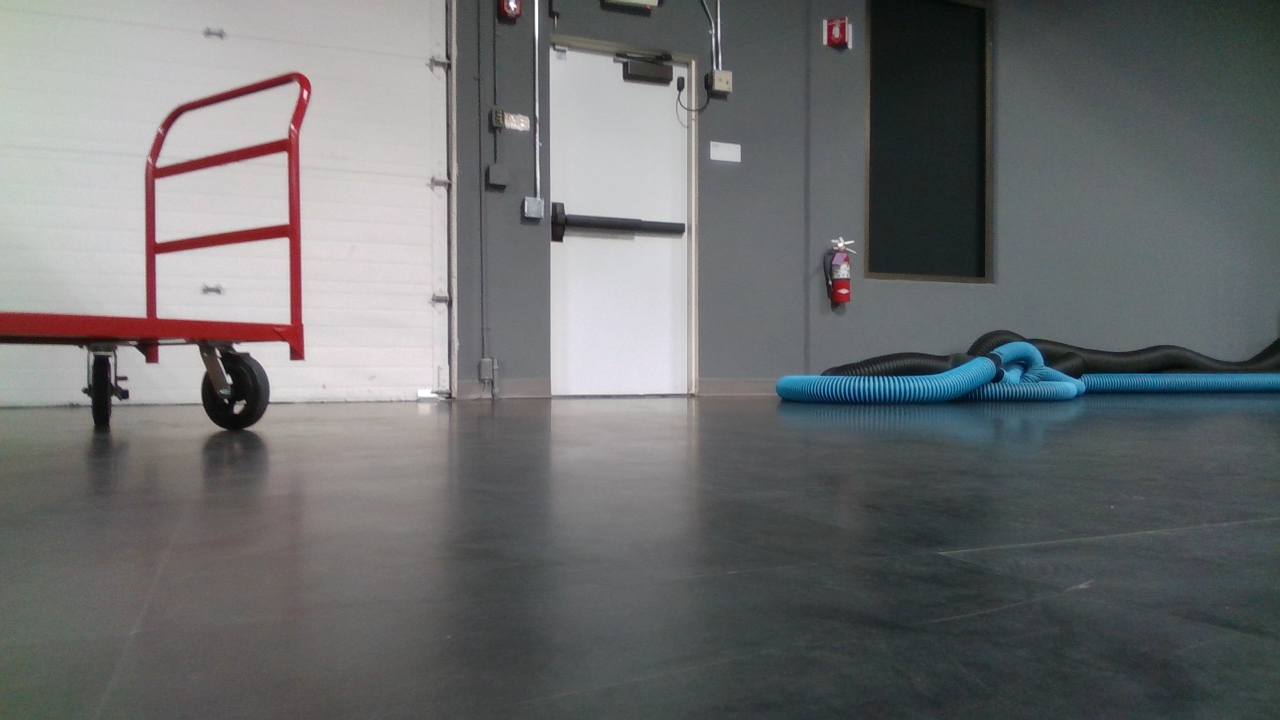Dolly: (0, 71, 311, 433)
Wheel: (202, 355, 269, 430), (80, 357, 126, 428)
